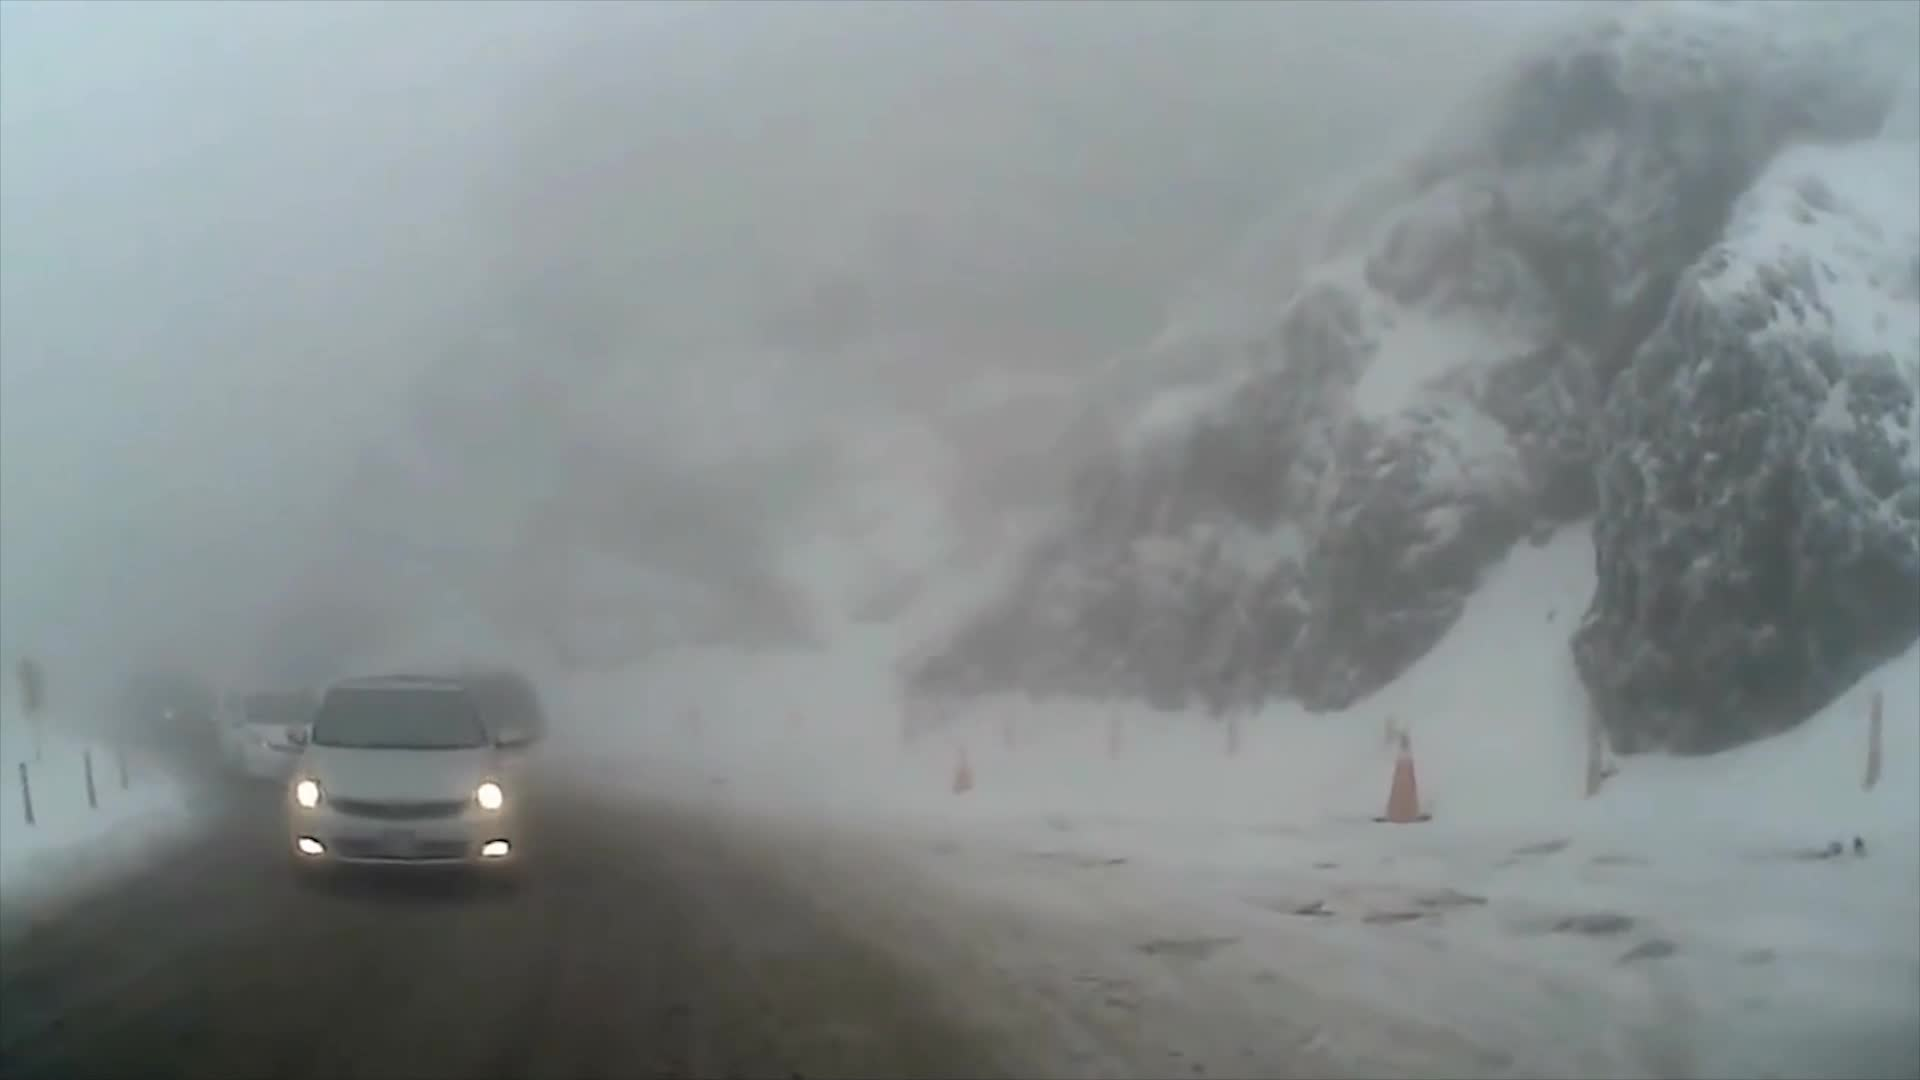vehicle: (281, 673, 524, 891), (211, 682, 347, 783)
